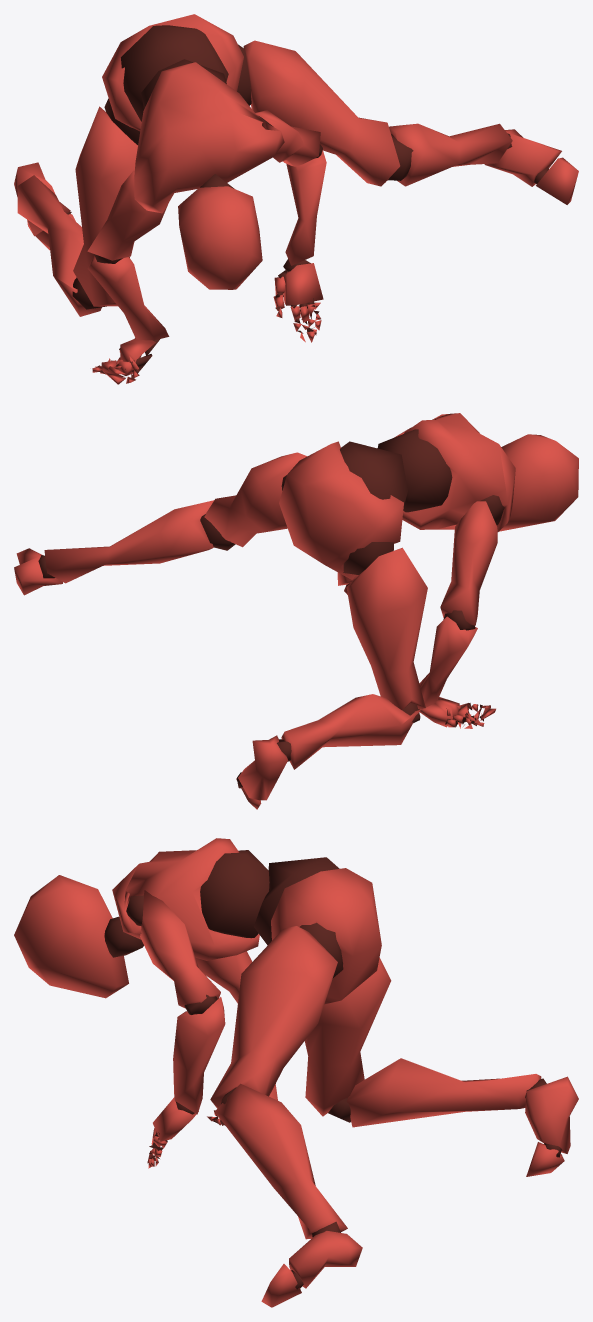
3 renders of one model, top to bottom at view 1: azimuth 30°, elevation 25°; view 2: azimuth 150°, elevation 25°; view 3: azimuth 270°, elevation 25°, orthographic. The views are drawn at different scales.
Visible parts, largest first — view 1: Beta_Surface; view 2: Beta_Surface; view 3: Beta_Surface.
Boxes of the visible parts, bbox=[...] form: Beta_Surface: bbox=[14, 14, 578, 384]; Beta_Surface: bbox=[14, 413, 578, 809]; Beta_Surface: bbox=[14, 838, 578, 1307].
Size of the model in its own units: 13.4 by 8.02 by 12.9.
